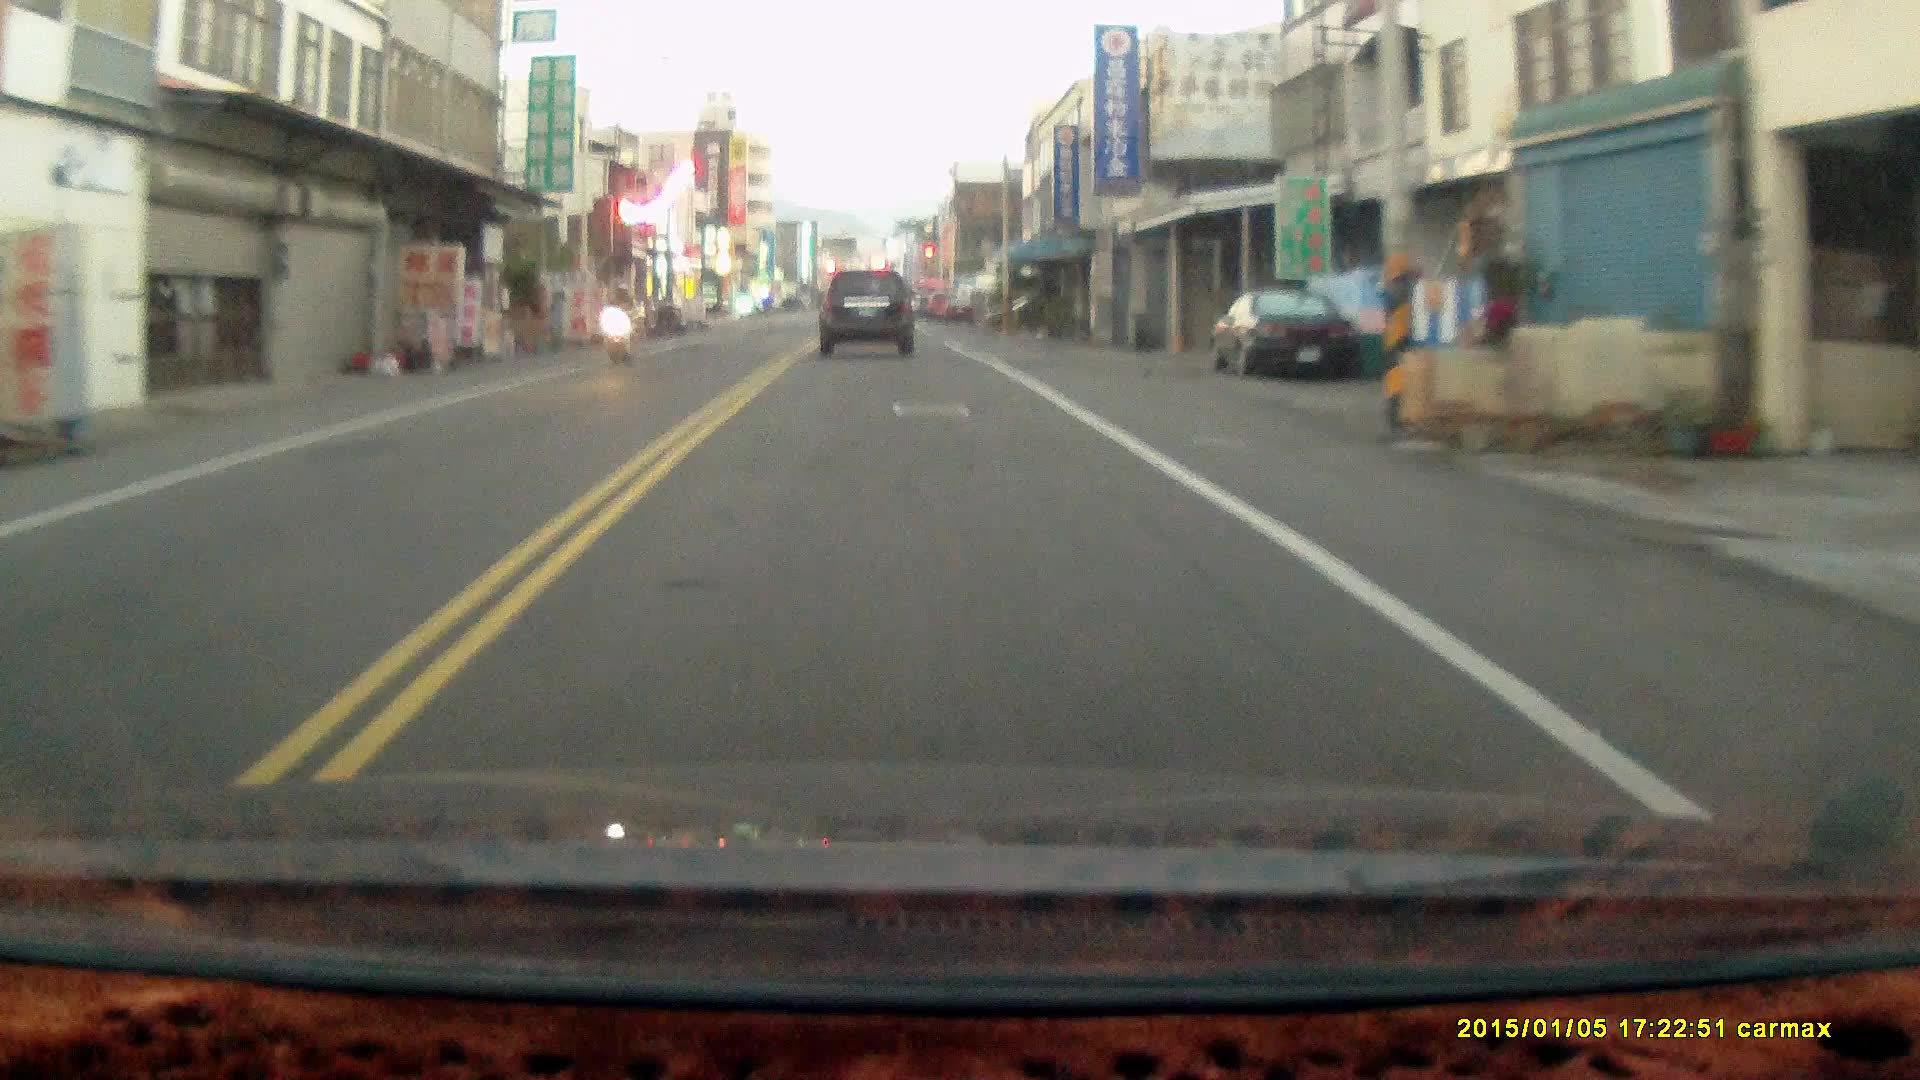rider: (599, 281, 636, 369)
vehicle: (1212, 292, 1363, 388), (819, 272, 917, 361)
